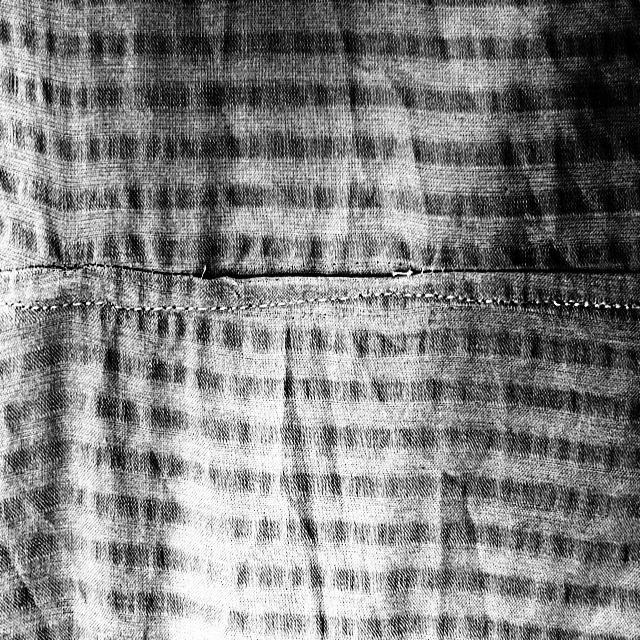Sewing_error: (146, 256, 459, 296)
